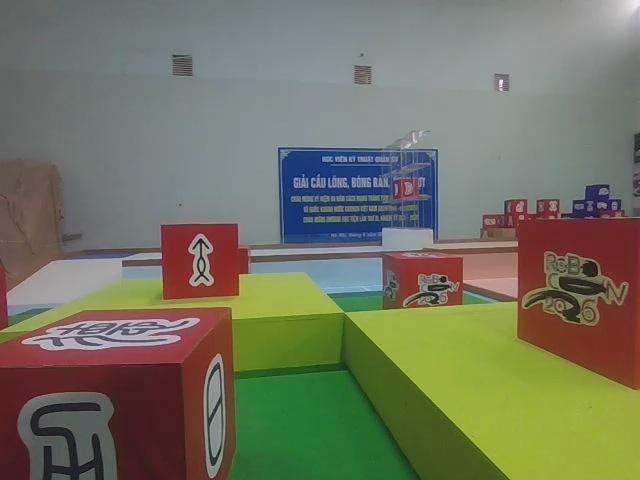R1: (514, 218, 640, 388), (381, 254, 464, 311)
R2 Fake: (0, 306, 238, 480)
R2 Real: (158, 220, 242, 301)
